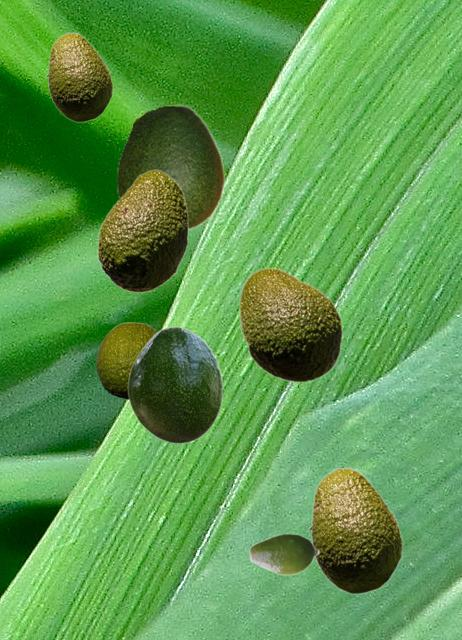avocado: (116, 104, 224, 230), (307, 467, 402, 593), (238, 267, 342, 382), (127, 326, 222, 443), (97, 169, 187, 292), (45, 32, 112, 121), (96, 322, 156, 398), (248, 532, 319, 575)
